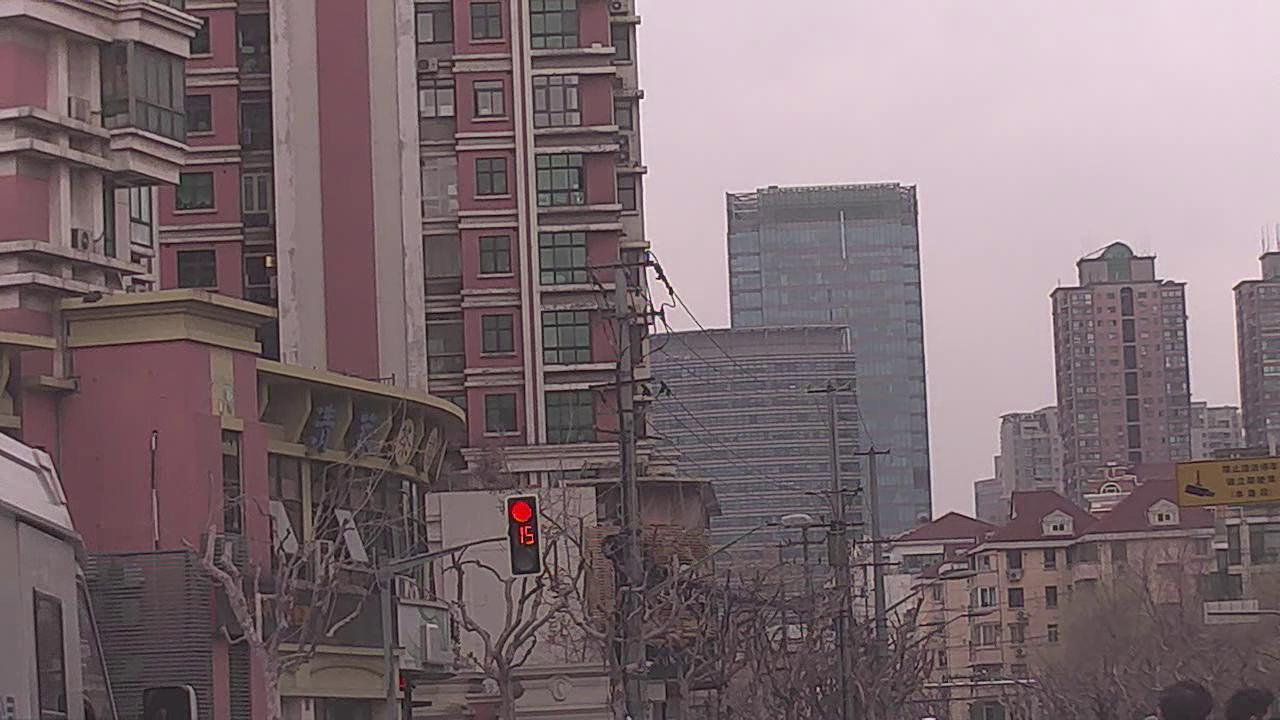traffic_light: (504, 494, 540, 577)
